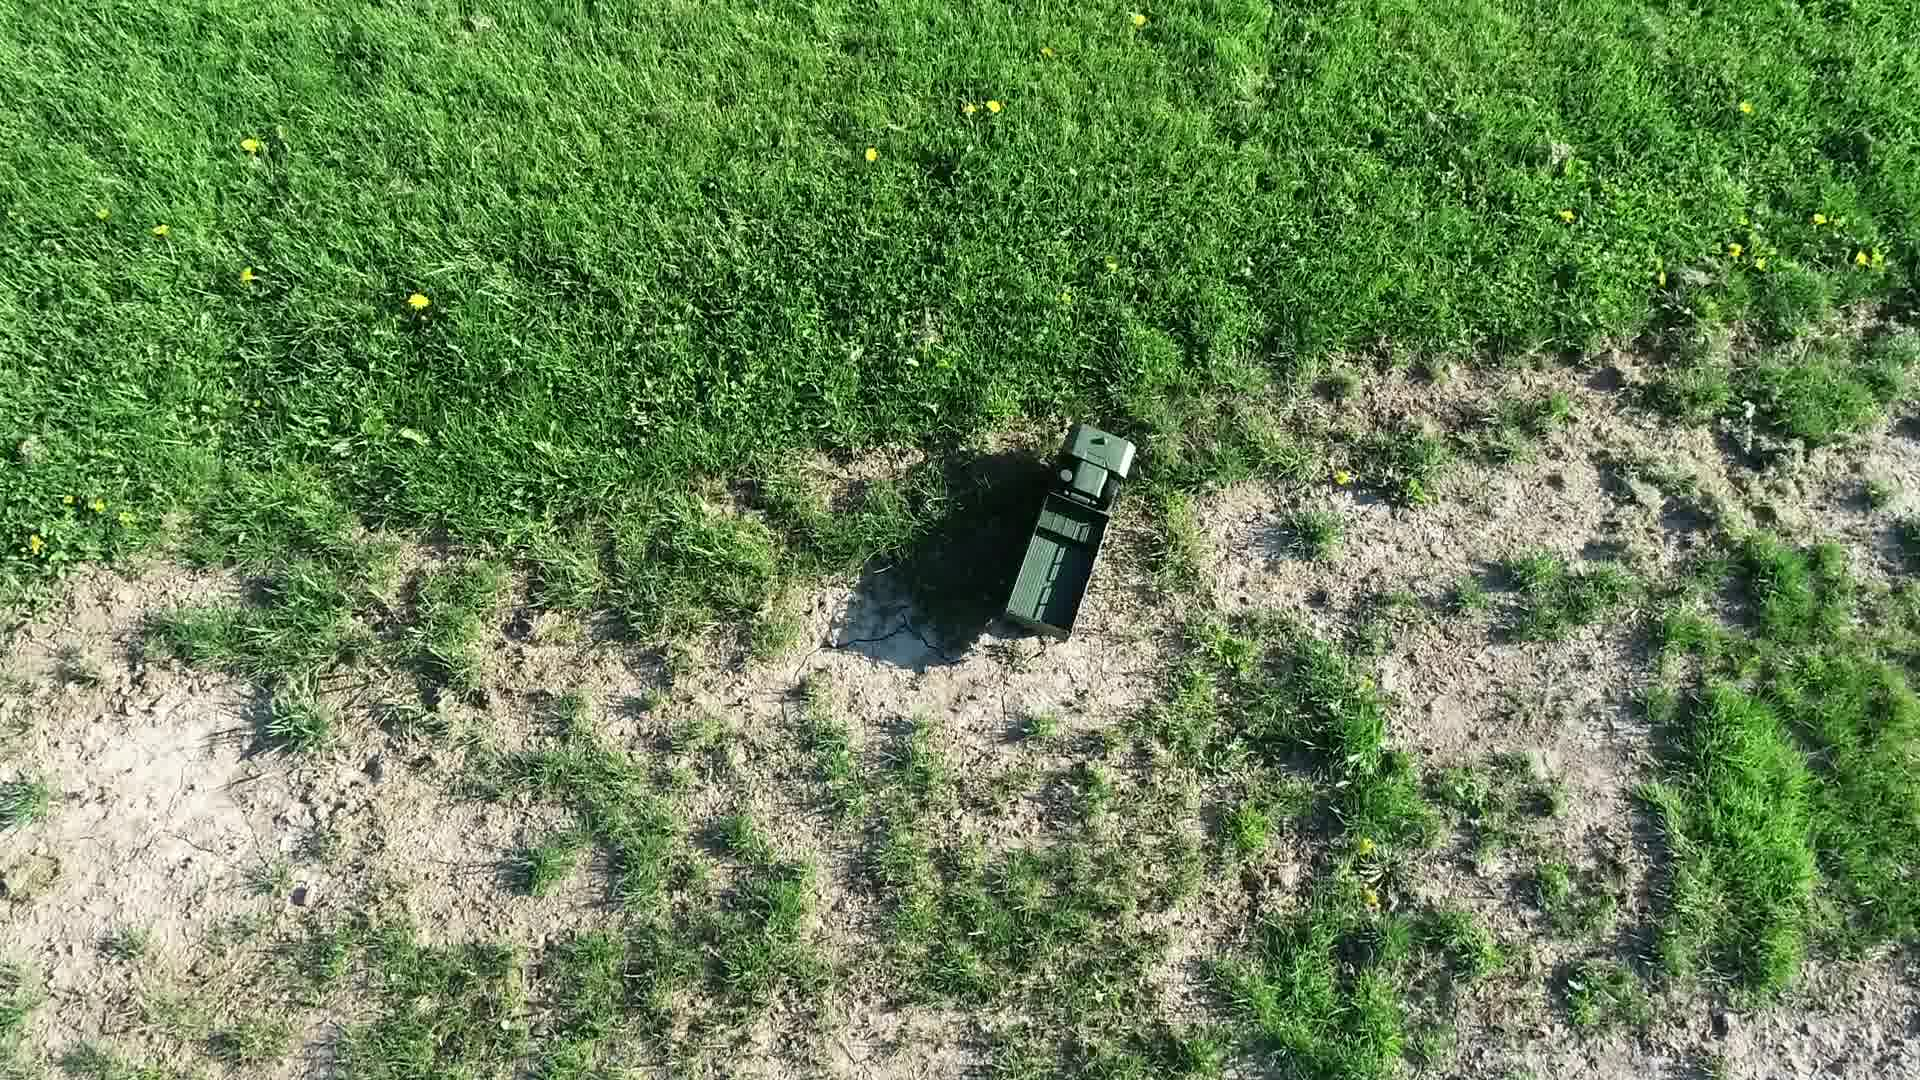transporter9: (973, 415, 1180, 653)
